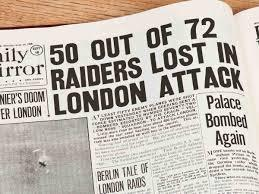Printing industry: (3, 5, 259, 194)
